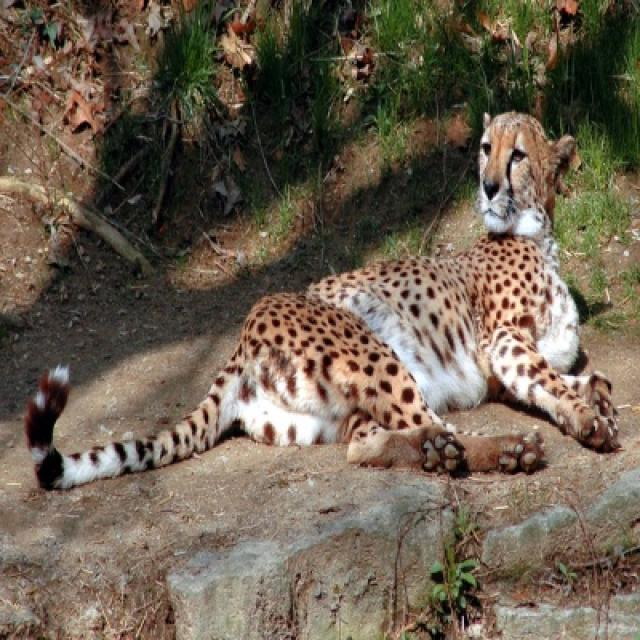Cheetah: (22, 114, 616, 490)
